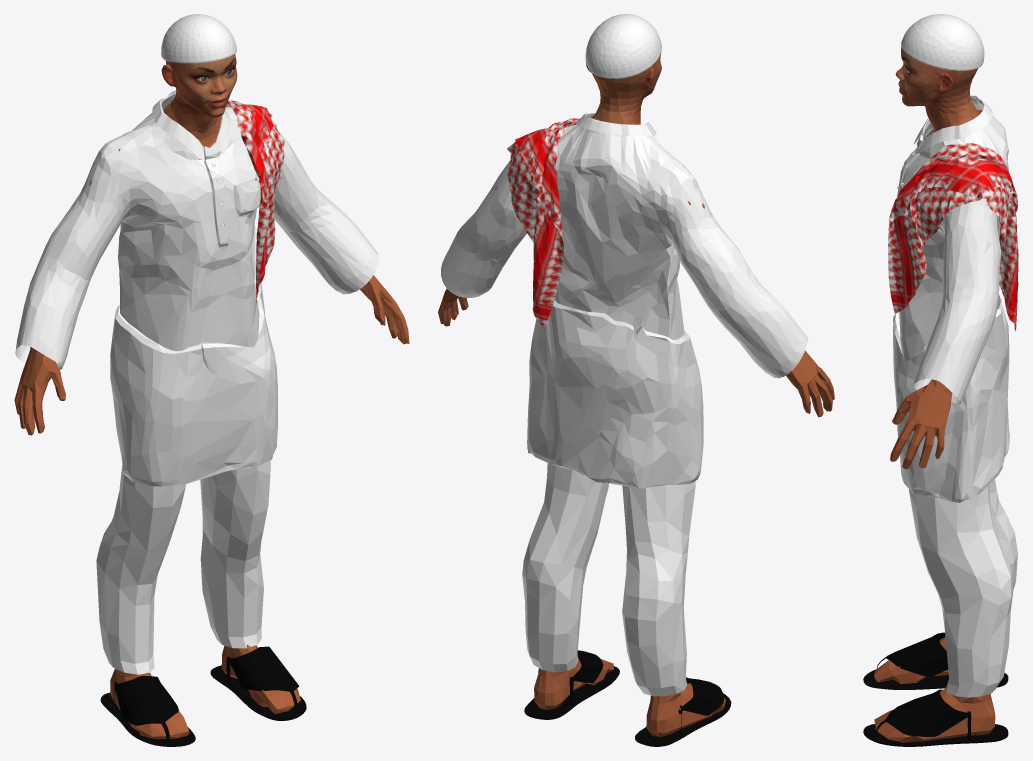
File: p-man-galabeya.glb
3 views of the same model, side by side, from view 1: azimuth 30°, elevation 25°; view 2: azimuth 150°, elevation 25°; view 3: azimuth 270°, elevation 25° (orthographic).
Visible parts, largest first — view 1: body; view 2: body; view 3: body.
Part boxes in pixels (x1,y1,x2,y2): body: (14,14,409,746); body: (438,14,834,746); body: (863,14,1018,746).
Bounding box in the file's own units: 1.06 × 1.83 × 0.3726.
1 material, 1 textured.
